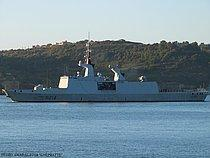MIL_Ship: (1, 53, 209, 105)
